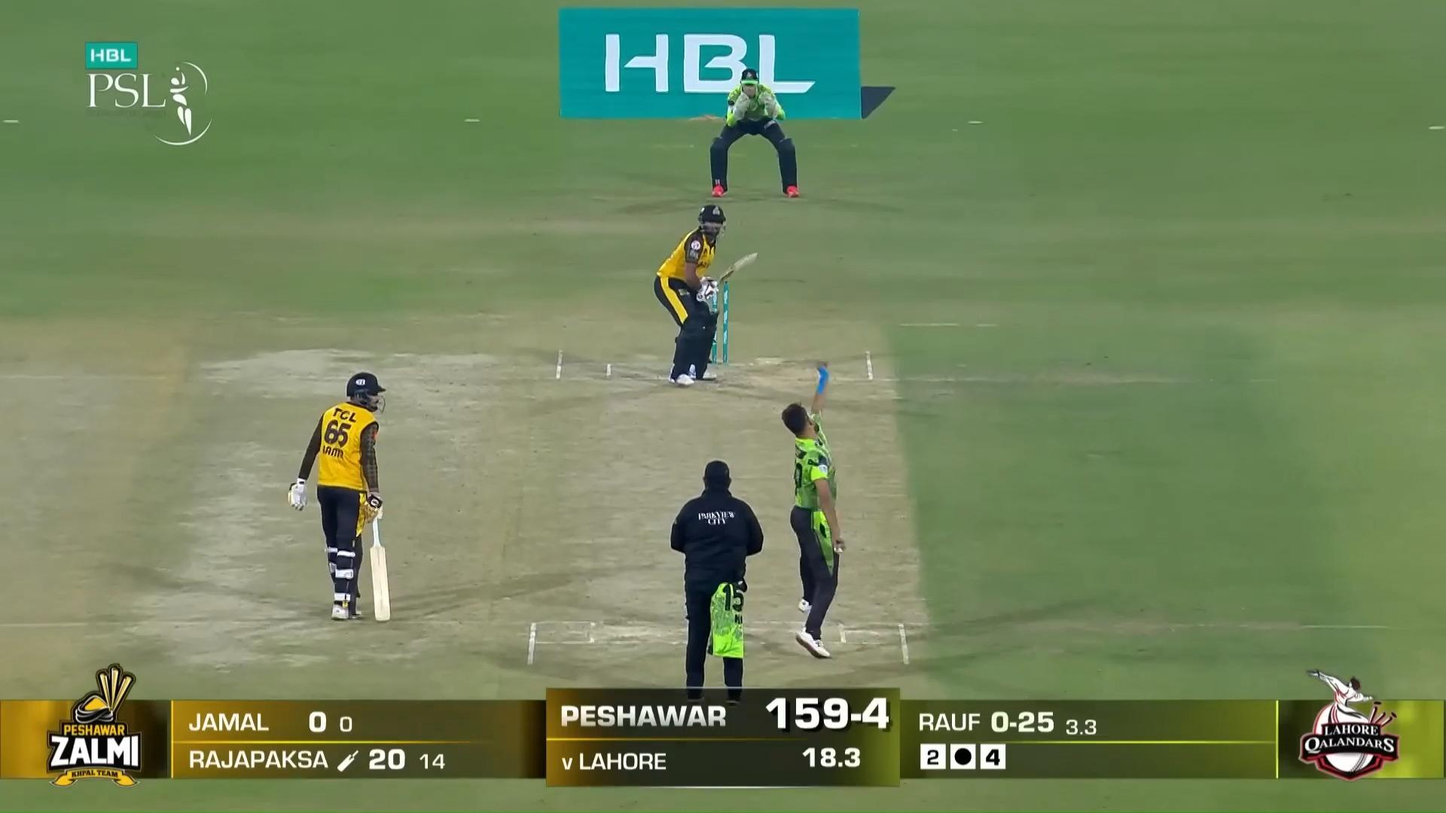batsman: (652, 203, 759, 386)
